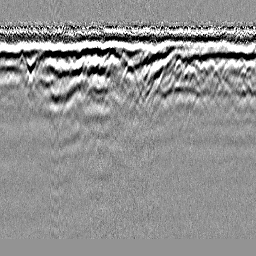cavity: (119, 60, 140, 93)
